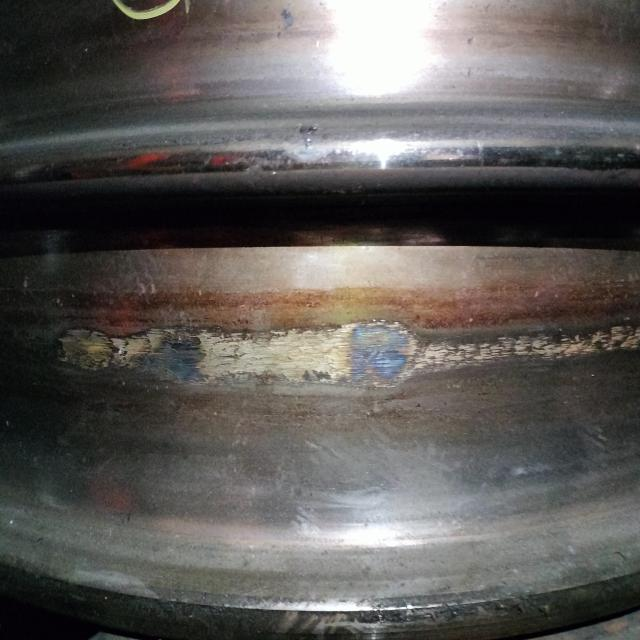flat: (49, 306, 640, 391)
